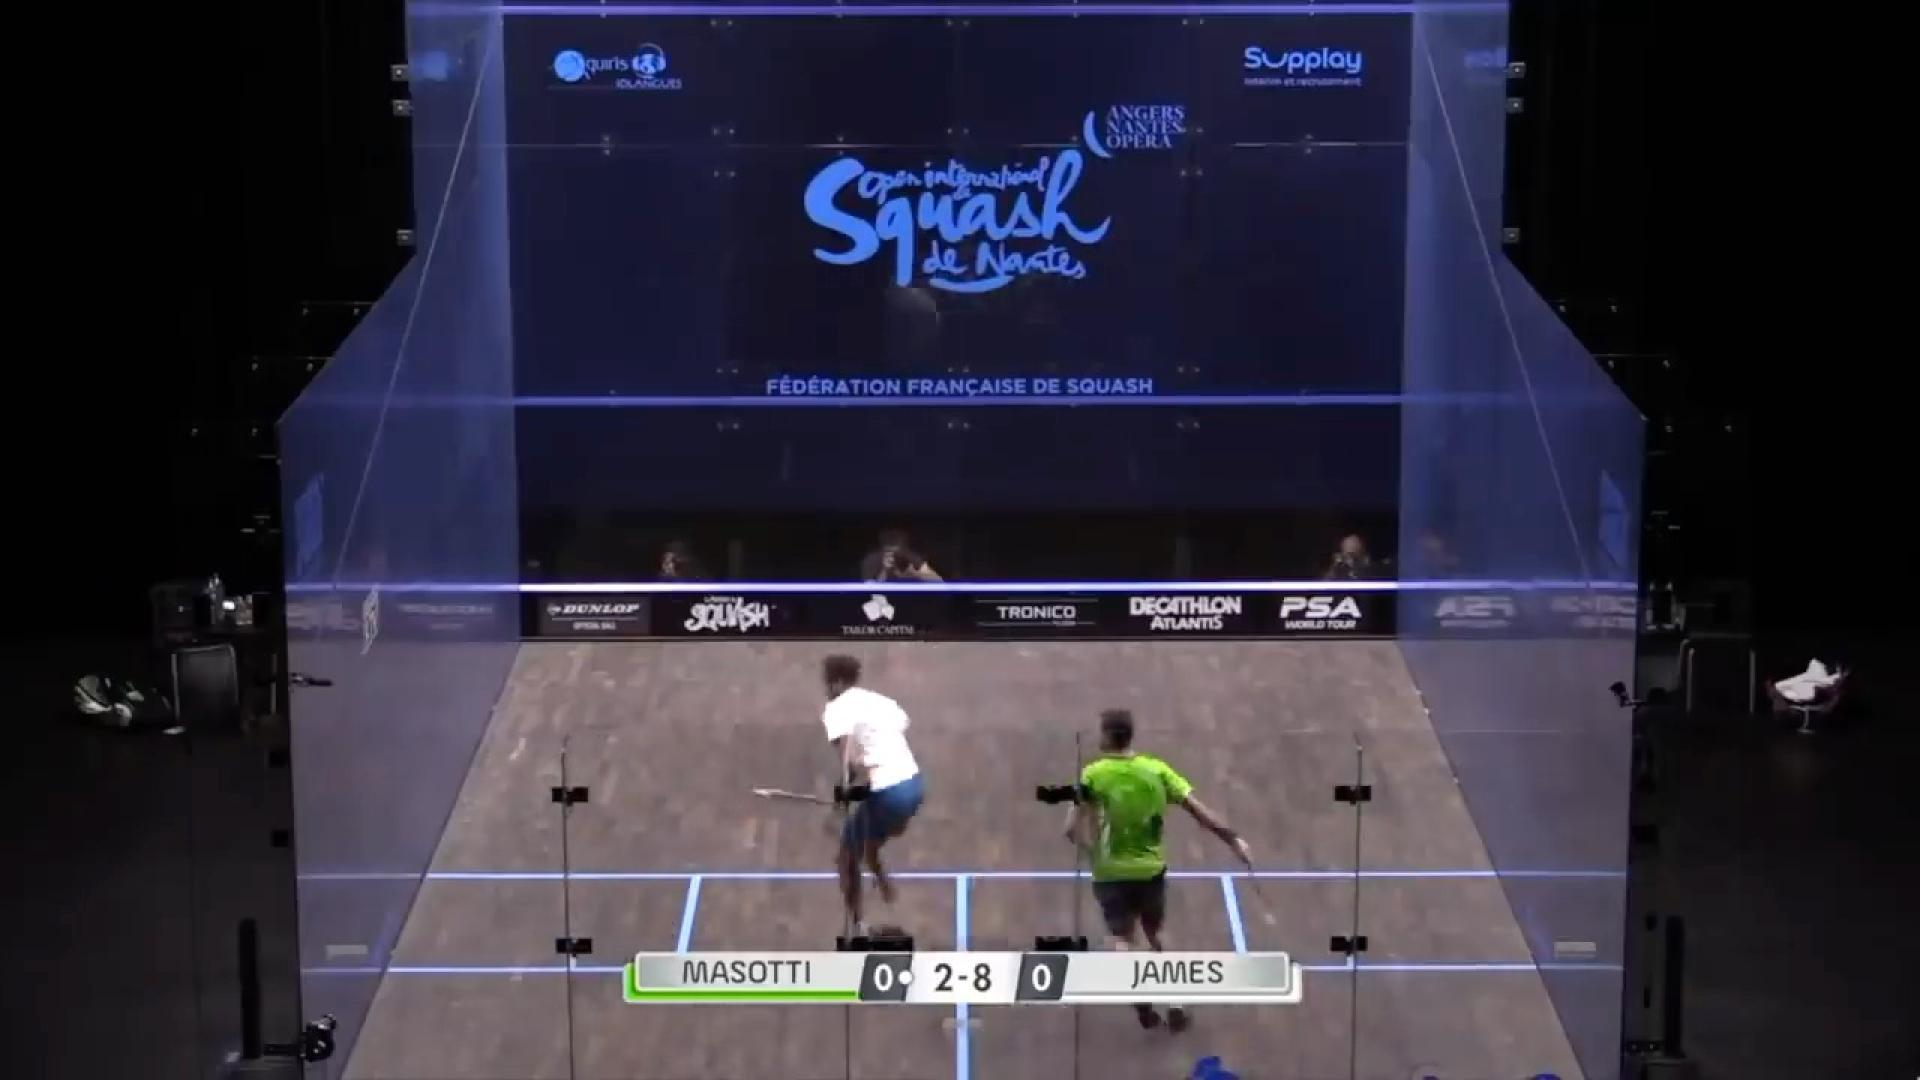Squash-Ball: (491, 720, 535, 773)
